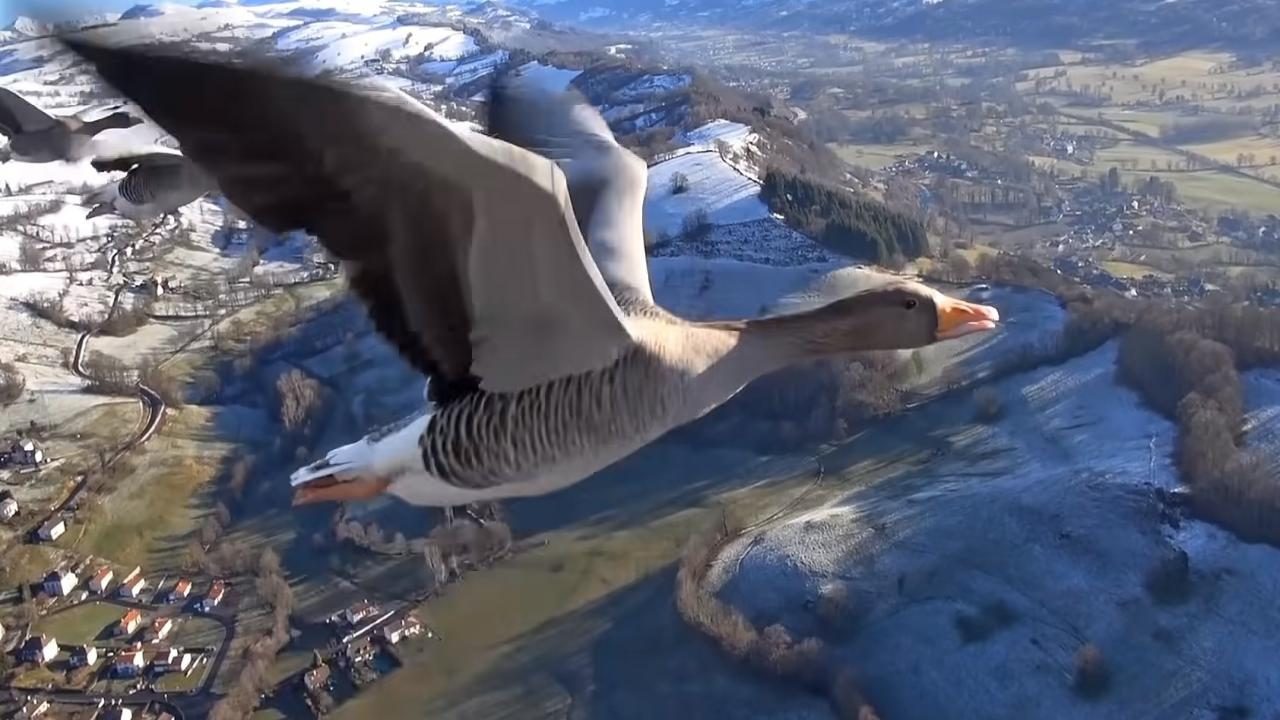Bird: (9, 0, 1020, 544)
